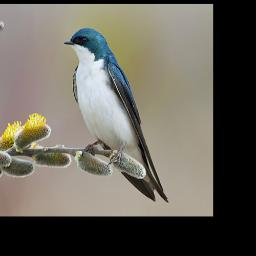Swallow: (62, 27, 169, 206)
